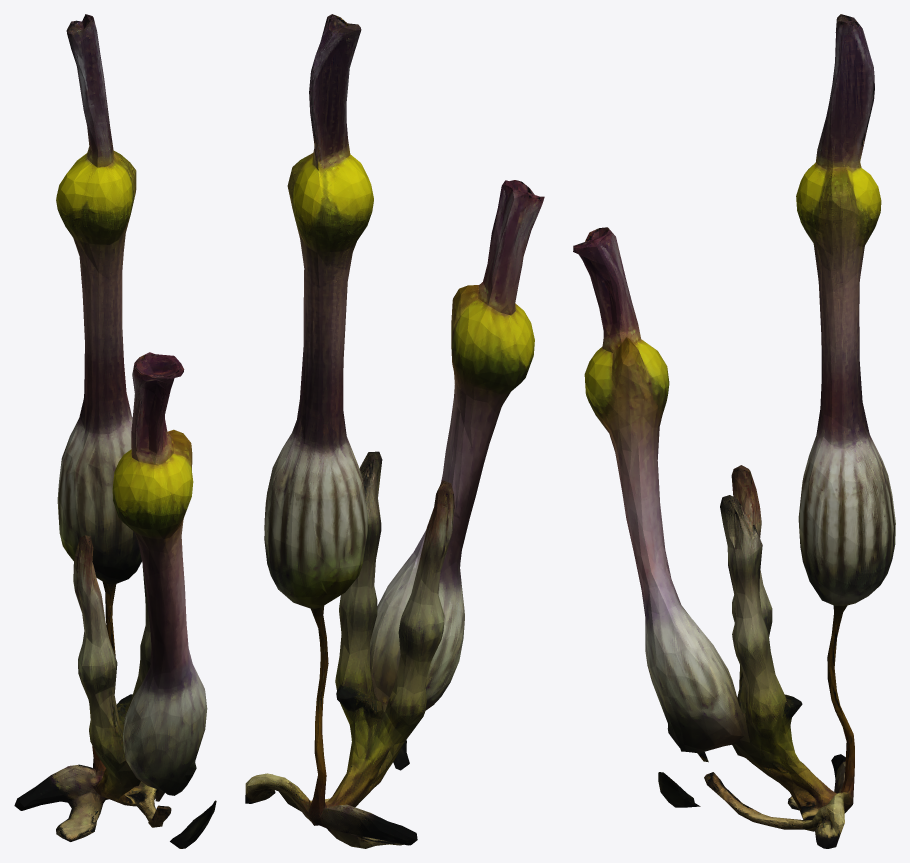
File: ceropegiamahabalei.glb
The picture shows the model from 3 angles, left to right: view 1: azimuth 30°, elevation 25°; view 2: azimuth 150°, elevation 25°; view 3: azimuth 270°, elevation 25°; orthographic projection. The views are drawn at different scales.
Visible parts, largest first — view 1: world; view 2: world; view 3: world.
Boxes of the visible parts, x1,y1,x2,y2 form: world: (14,14,216,848); world: (245,14,544,848); world: (573,14,895,848).
Bounding box in the file's own units: 0.2188 × 0.9738 × 0.3542.
Materials: 1 (1 with a texture image).
